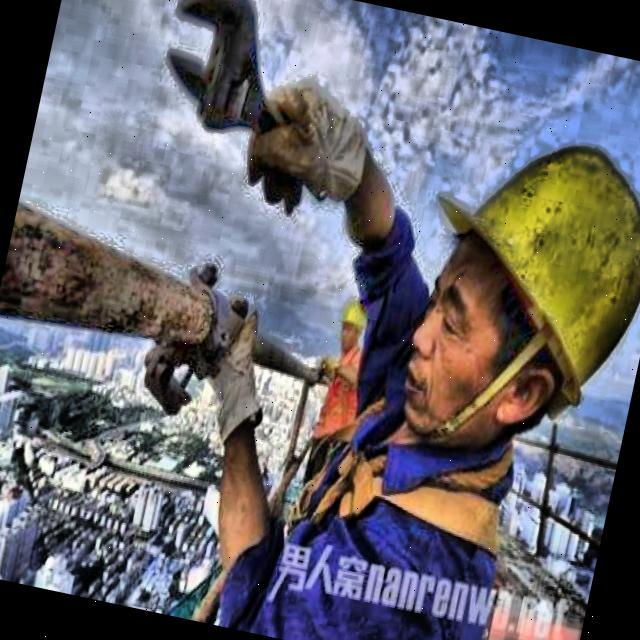helmet: (367, 84, 640, 498), (328, 291, 378, 363)
